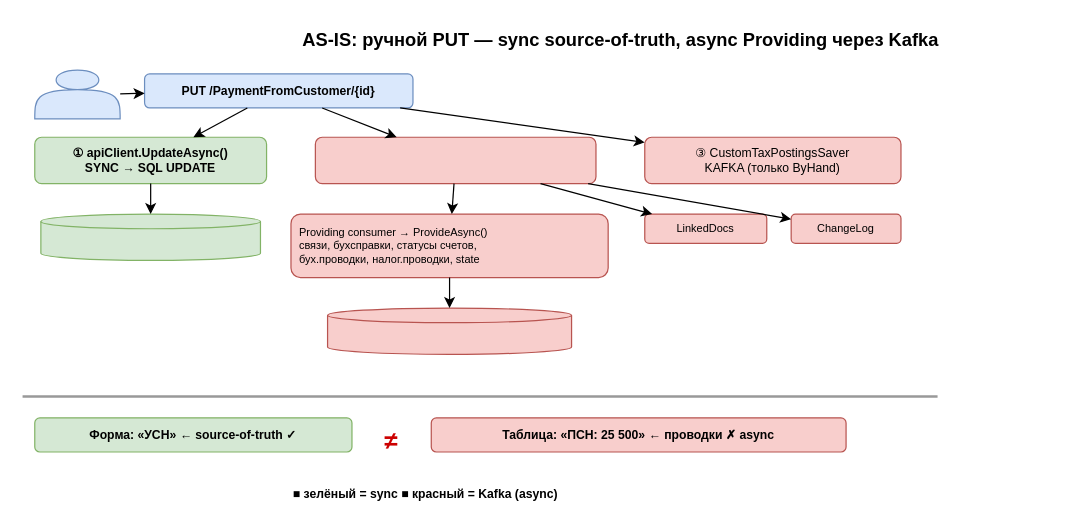
Image size: 1068x521. Some labels were removed from this diagram. Each missing label, with the centre of its shape:
"Accounting_PaymentOrder (source-of-truth)" goes at point 150,236.
"PostingForTax / PostingForPatent" goes at point 449,330.
"② WriteUpdatedEventAsync() KAFKA — бизнес-триггер" goes at point 455,160.
"👤 Сохранить" goes at point 77,94.
